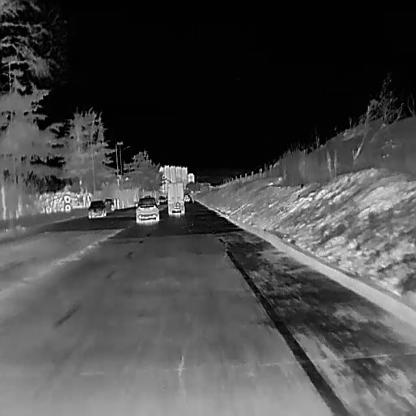car: (134, 195, 159, 223), (87, 198, 106, 218), (104, 196, 115, 210), (158, 194, 166, 202), (182, 192, 190, 200)
truck: (165, 180, 185, 214)
